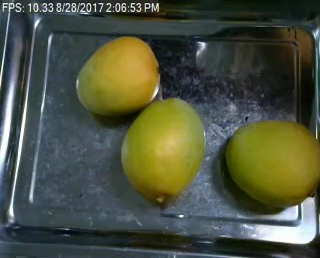Mango: (118, 95, 208, 198), (224, 117, 320, 210), (73, 34, 166, 120)
